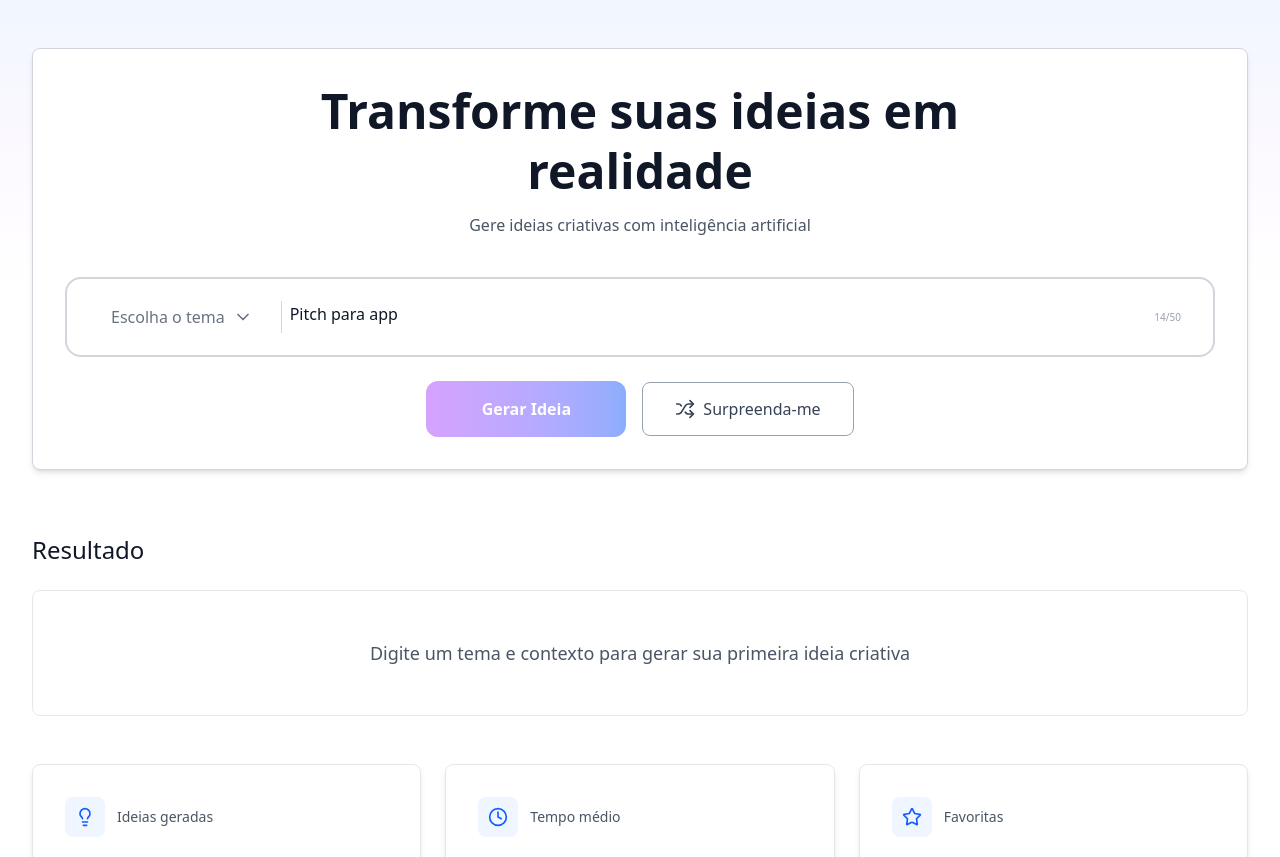
Test: GeneratorPage › permite favoritar a ideia atual e atualiza os indicadores
This screenshot has width=1280, height=857.
Click the button "Escolha o tema" at point(182, 317), box [91,295,273,339]
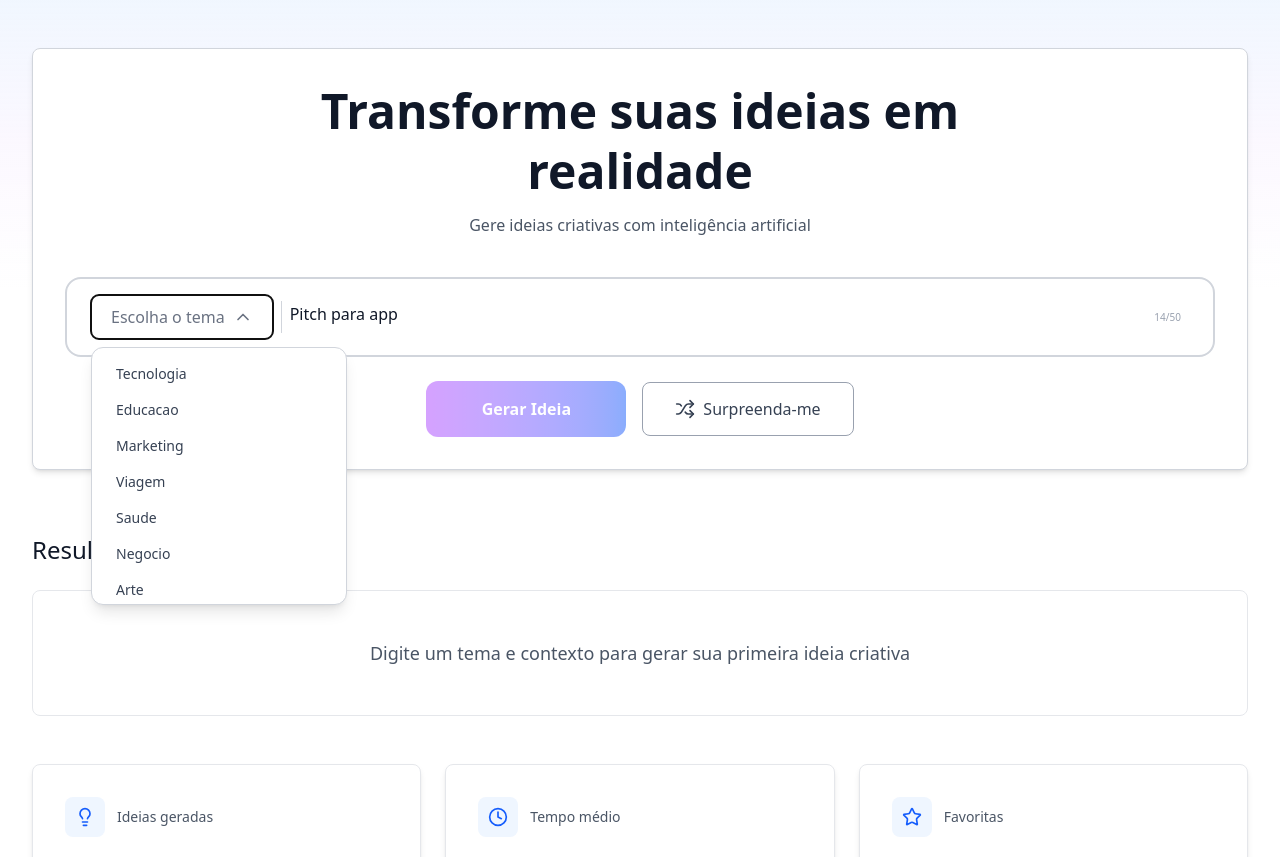
Click the button "Tecnologia" at point(219, 374), box [100,356,338,392]
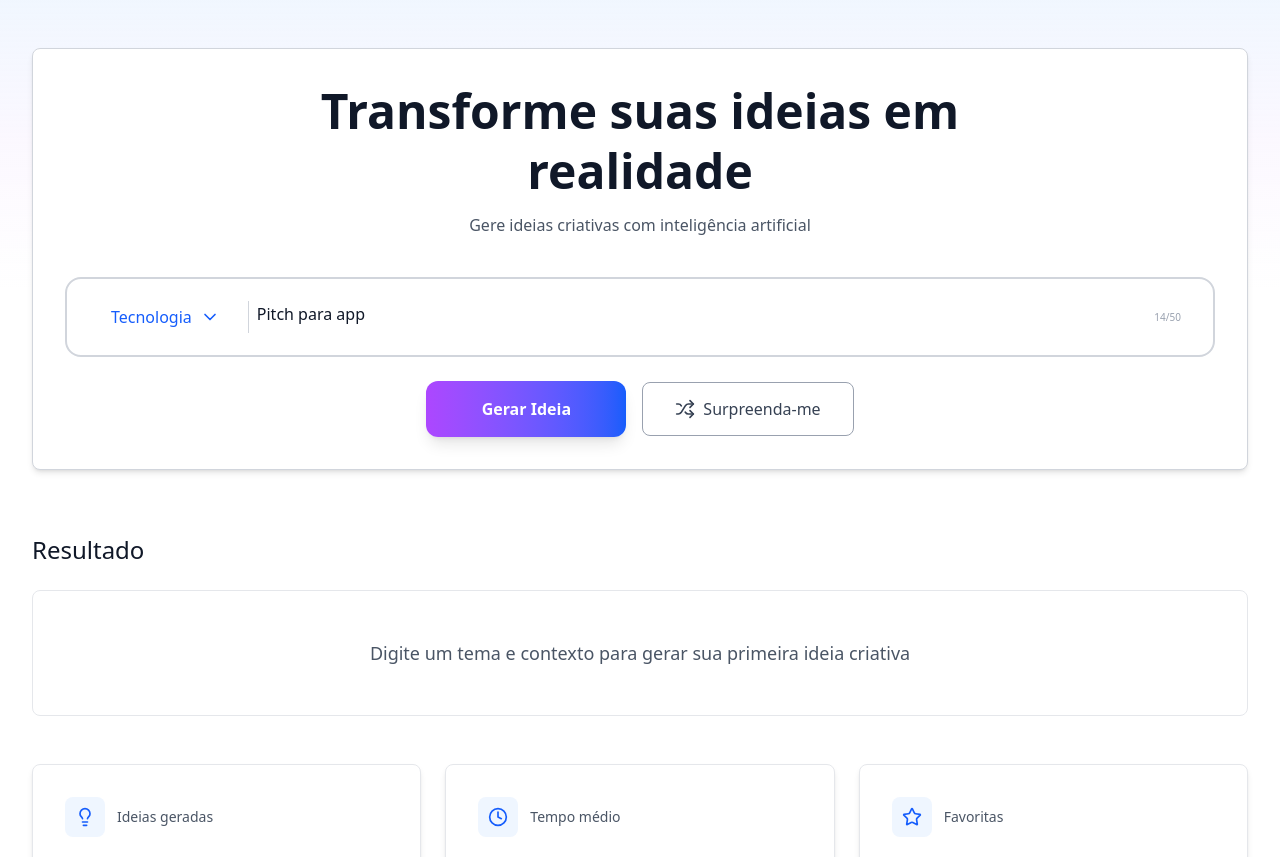
Expected: the button "Gerar Ideia" is enabled
Click the button "Gerar Ideia" at point(526, 409), box [426,381,626,437]
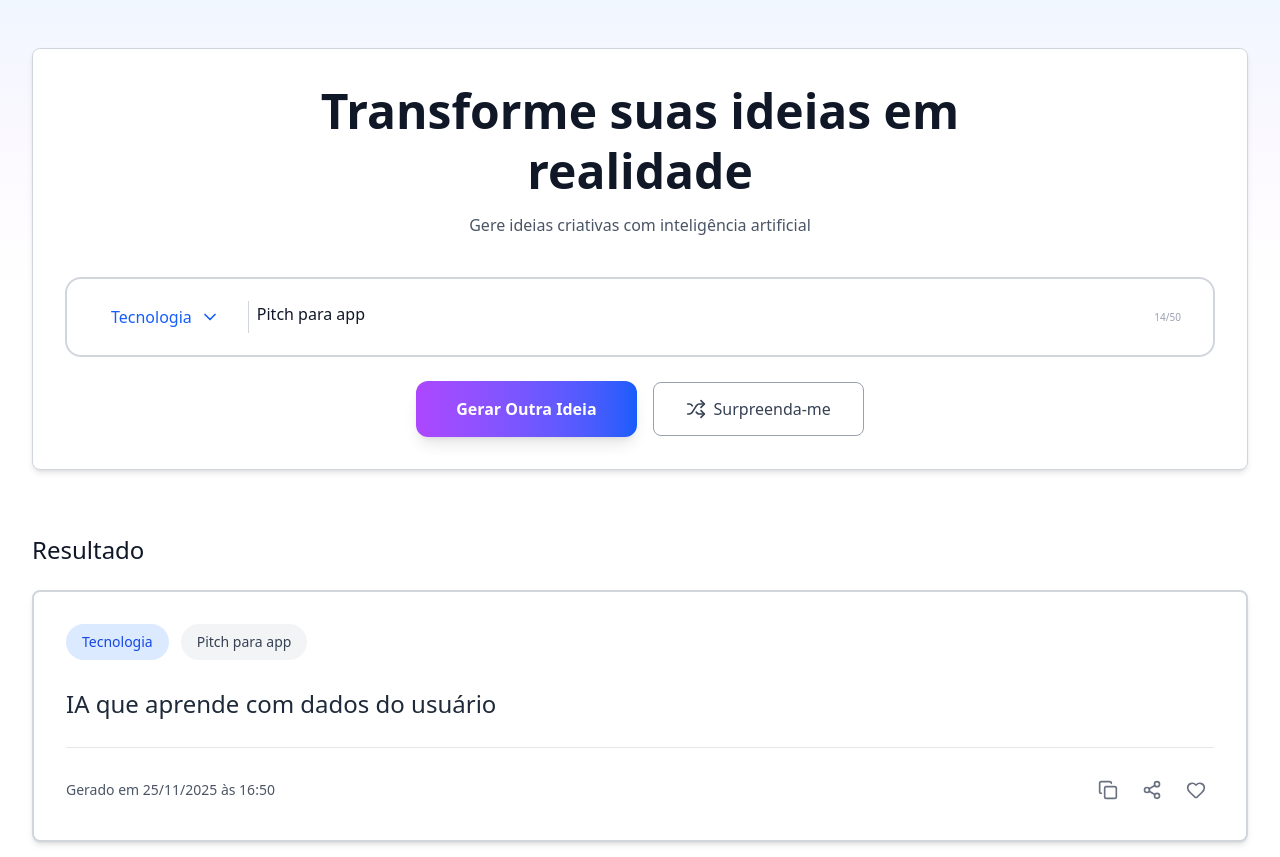
Expected: the text "IA que aprende com dados do usuário" is shown, [66,687,496,720]
Click the button named "favoritar" at point(1196, 790), box [1178,772,1214,808]
(page scrolled)
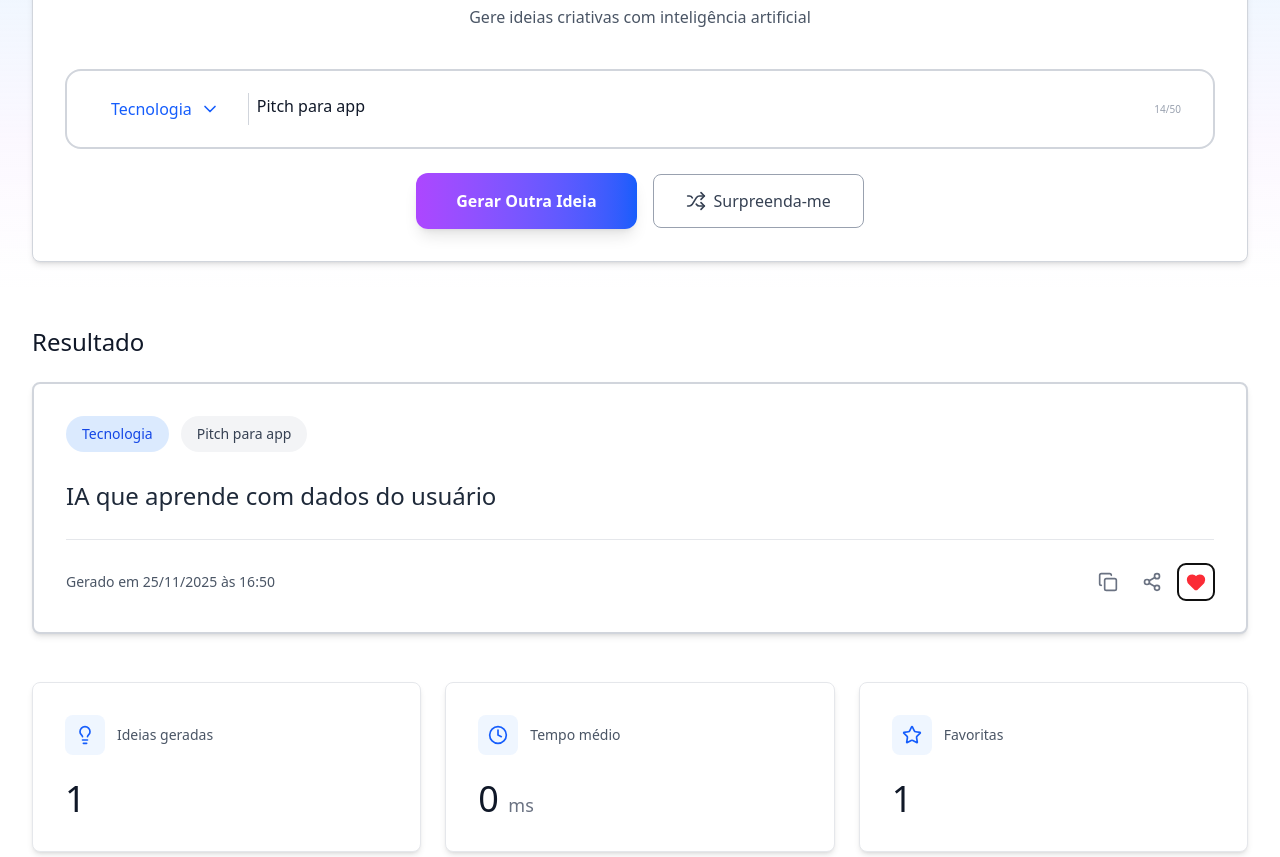
Expected: the text "1" below "Favoritas" is shown, [892,774,912,823]
